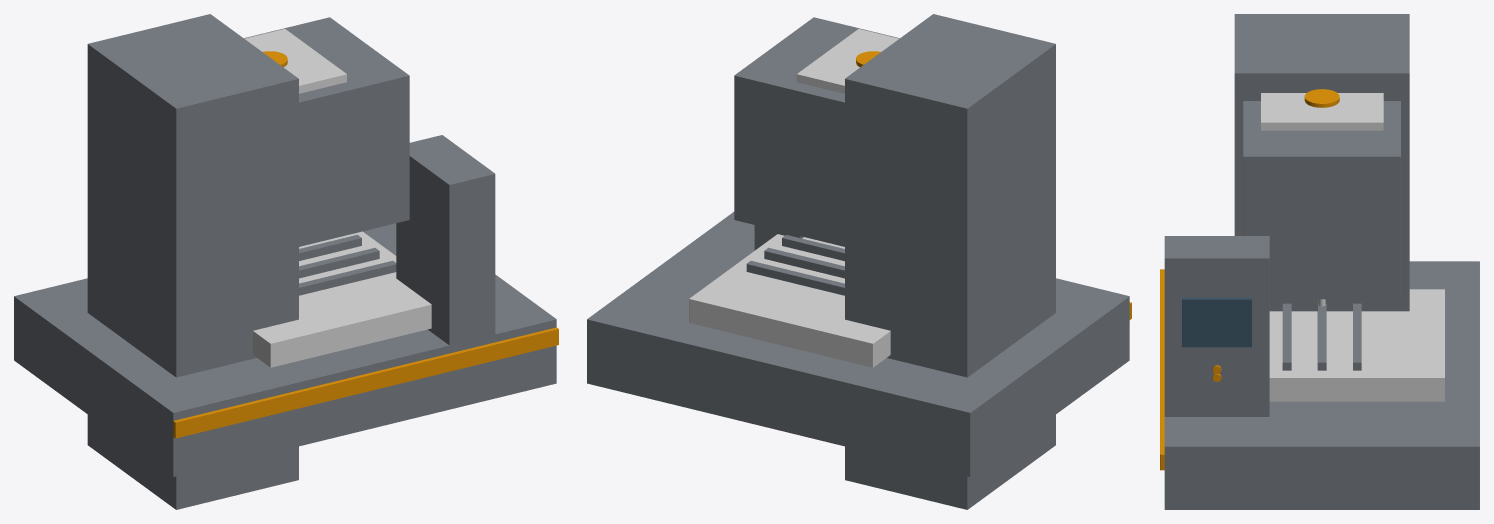
Rendered from фрез.fbx.
3 renders of one model, left to right at view 1: azimuth 30°, elevation 25°; view 2: azimuth 150°, elevation 25°; view 3: azimuth 270°, elevation 25°, orthographic.
Parts seen in each view (by area): view 1: Industrial_CNC_Mill; view 2: Industrial_CNC_Mill; view 3: Industrial_CNC_Mill.
Part boxes in pixels (x1,y1,x2,y2): Industrial_CNC_Mill: [14, 14, 558, 509]; Industrial_CNC_Mill: [587, 14, 1131, 509]; Industrial_CNC_Mill: [1160, 14, 1479, 509].
Size of the model in its own units: 500 by 500 by 365.
